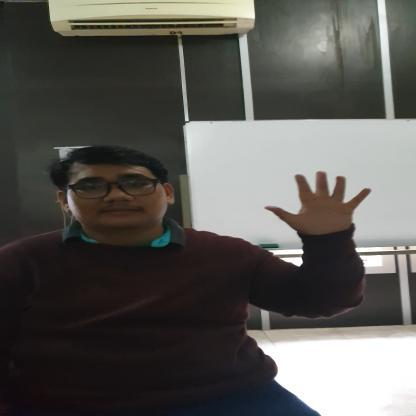Halo: (263, 167, 372, 238)
